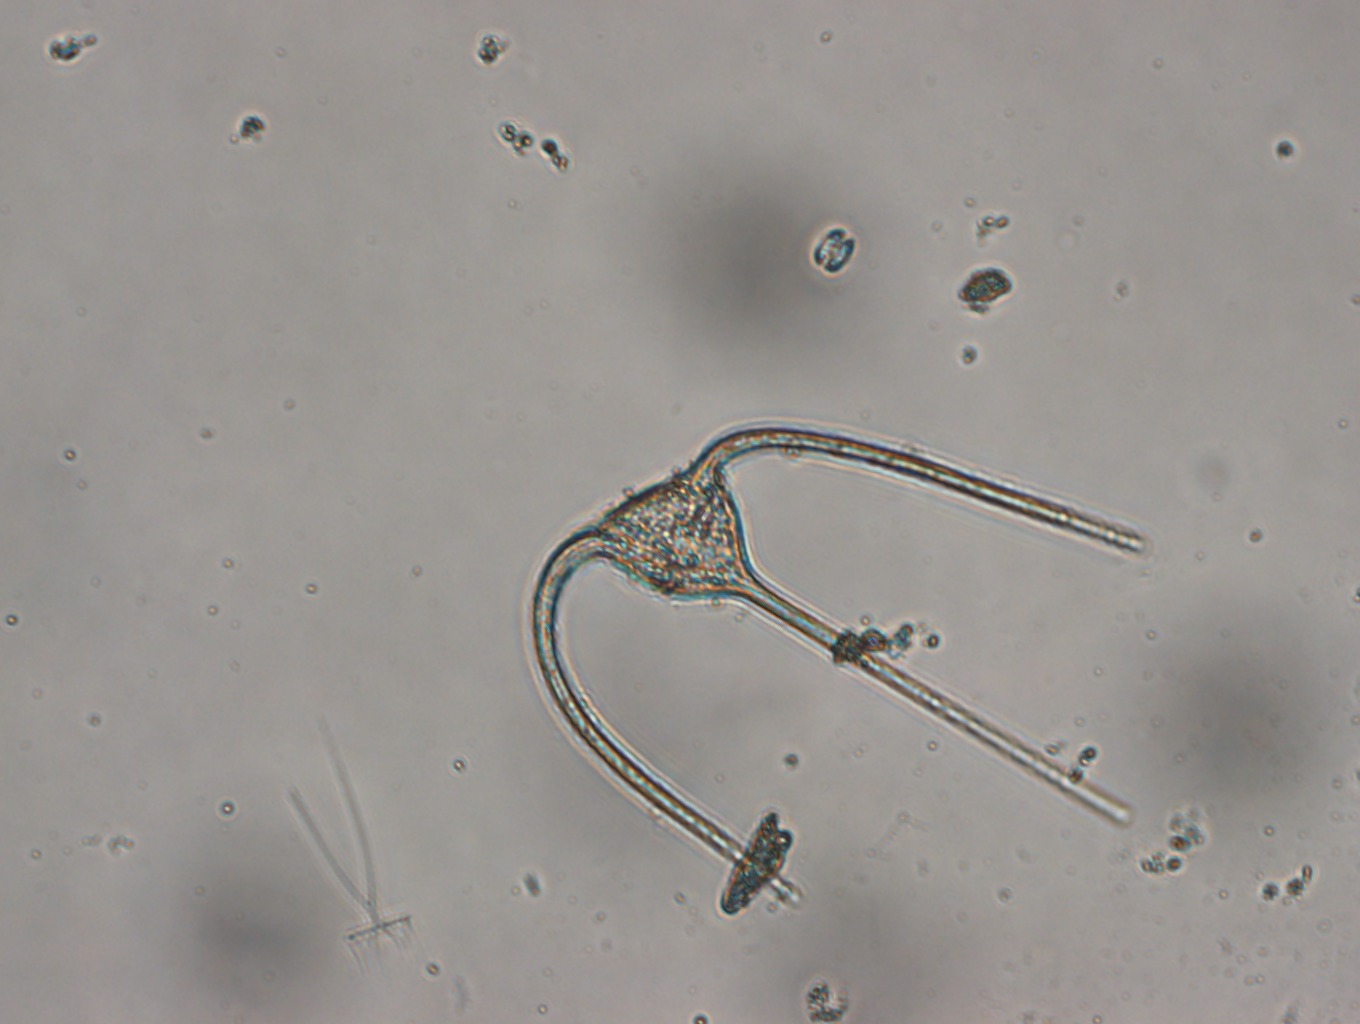ceratium trichoceros: (516, 408, 1176, 902)
